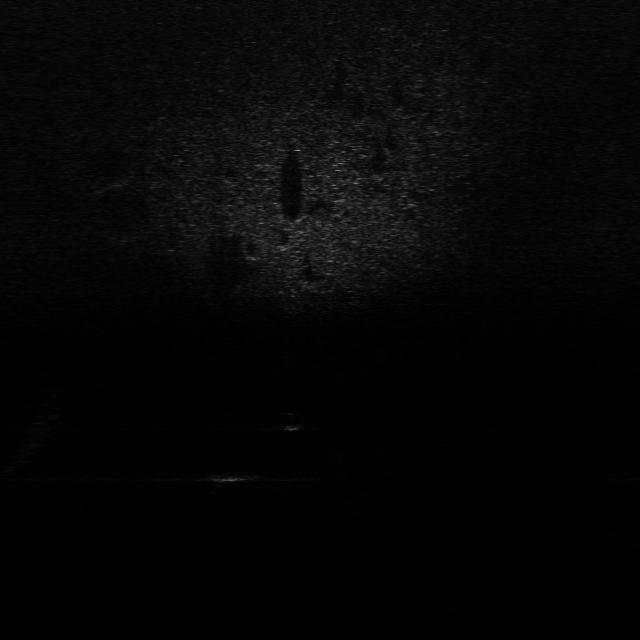ball: (278, 408, 304, 432)
square cage: (206, 464, 253, 494)
